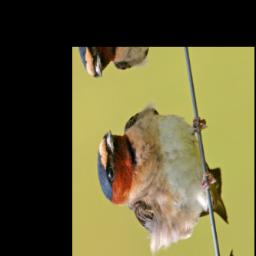Swallow: (91, 74, 231, 256)
